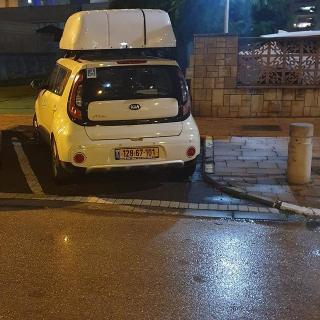LicensePlate: (119, 148, 159, 158)
